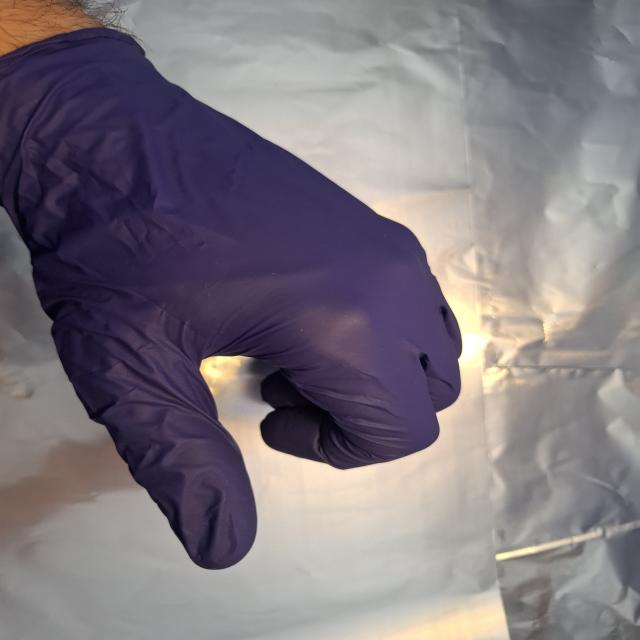glove_on: (2, 25, 467, 569)
